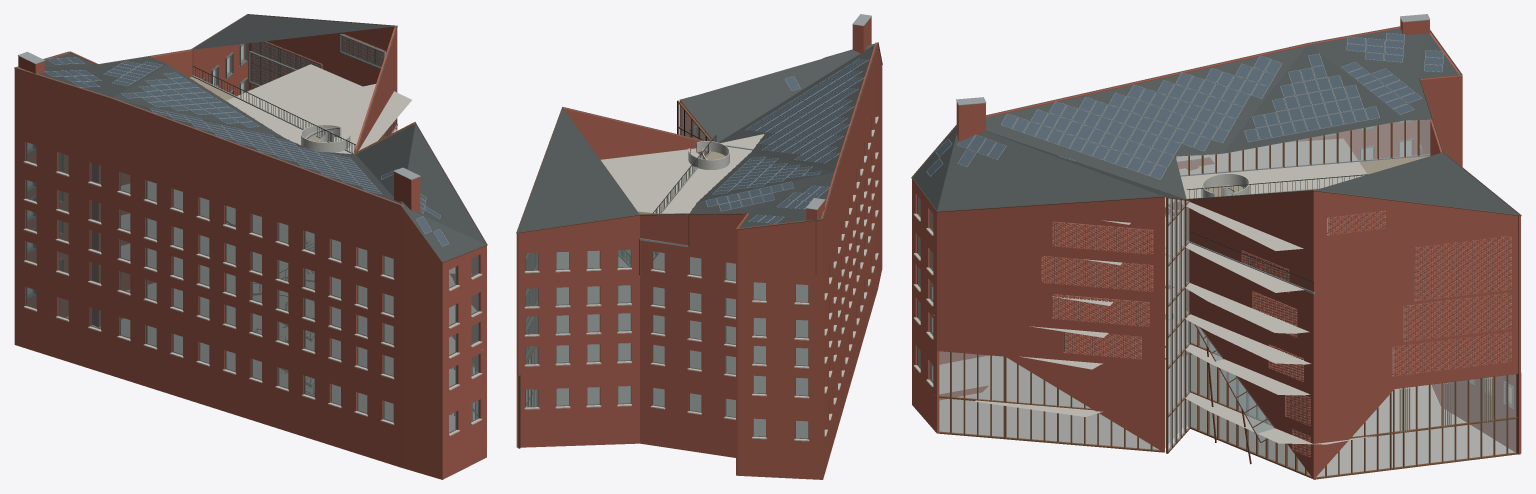
Rendered from saw-exterior-afe0c44b12b0.glb.
The picture shows the model from 3 angles, left to right: view 1: azimuth 30°, elevation 25°; view 2: azimuth 150°, elevation 25°; view 3: azimuth 270°, elevation 25°; orthographic projection. The views are drawn at different scales.
Visible parts, largest first — view 1: SAW.001; view 2: SAW.001; view 3: SAW.001.
Part boxes in pixels (box(x1,y1,x2,y2)): SAW.001: box(14, 14, 487, 479); SAW.001: box(516, 14, 882, 479); SAW.001: box(911, 14, 1521, 479).
Bounding box in the file's own units: 34.92 × 29.04 × 53.36.
